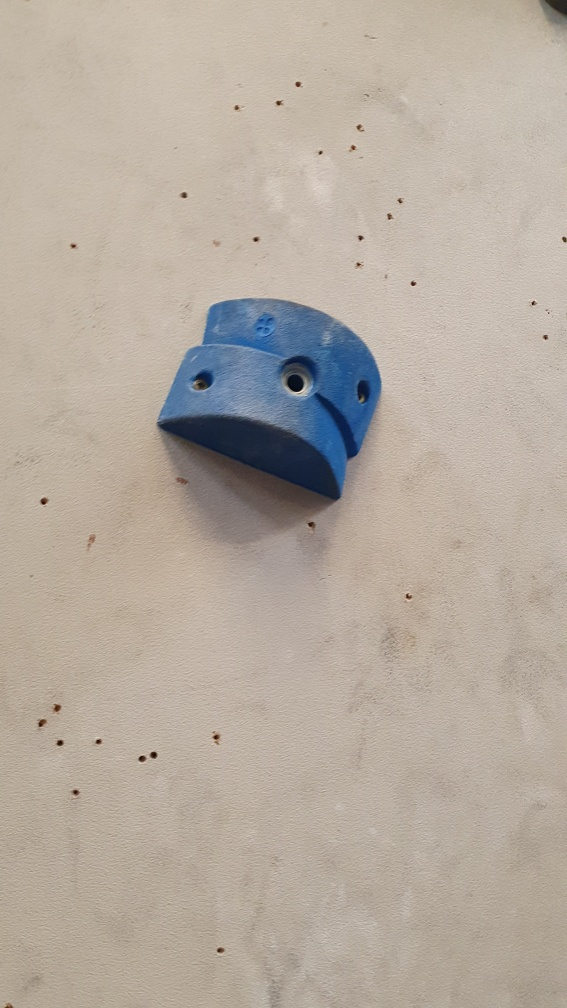Pinch: (153, 293, 386, 507)
